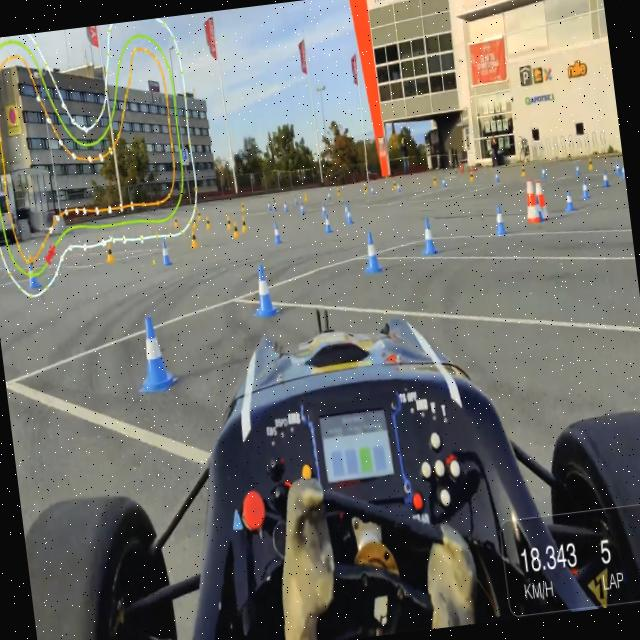blue_cone: (126, 308, 180, 399), (246, 260, 280, 322), (358, 229, 384, 278), (416, 214, 438, 256), (490, 202, 509, 238), (25, 261, 42, 292), (158, 236, 174, 268), (561, 187, 577, 214), (270, 220, 282, 247), (322, 210, 333, 235), (579, 177, 591, 199), (600, 169, 610, 189), (534, 198, 542, 222), (343, 198, 352, 218), (346, 203, 354, 224), (613, 157, 621, 175), (618, 162, 625, 180), (282, 199, 290, 214), (573, 162, 580, 178), (320, 201, 327, 216), (298, 201, 305, 215), (440, 176, 448, 188), (540, 163, 546, 179), (494, 171, 501, 184), (266, 198, 272, 212), (326, 189, 332, 201), (396, 180, 402, 192), (272, 201, 278, 212), (293, 194, 298, 205), (370, 184, 374, 196)
large_orange_cone: (522, 177, 540, 226), (534, 179, 549, 220)
yellow_cone: (105, 242, 116, 264), (188, 229, 198, 249), (231, 220, 240, 240), (240, 215, 248, 232), (520, 162, 528, 179), (204, 214, 212, 230), (225, 214, 232, 232), (586, 157, 594, 170), (195, 208, 202, 222), (191, 216, 198, 230), (173, 216, 179, 228), (240, 200, 246, 212), (468, 170, 474, 182), (432, 175, 438, 186), (303, 190, 308, 203), (363, 182, 368, 194), (391, 180, 397, 190), (336, 186, 341, 196), (272, 196, 276, 206)
